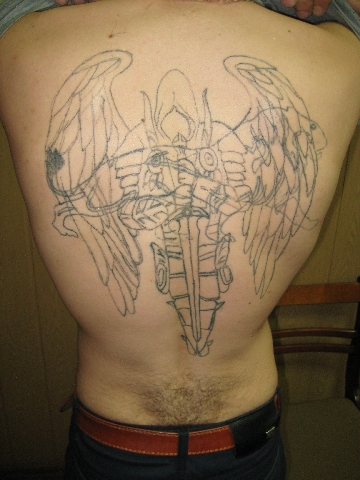tatu1_angel: (50, 52, 321, 348)
